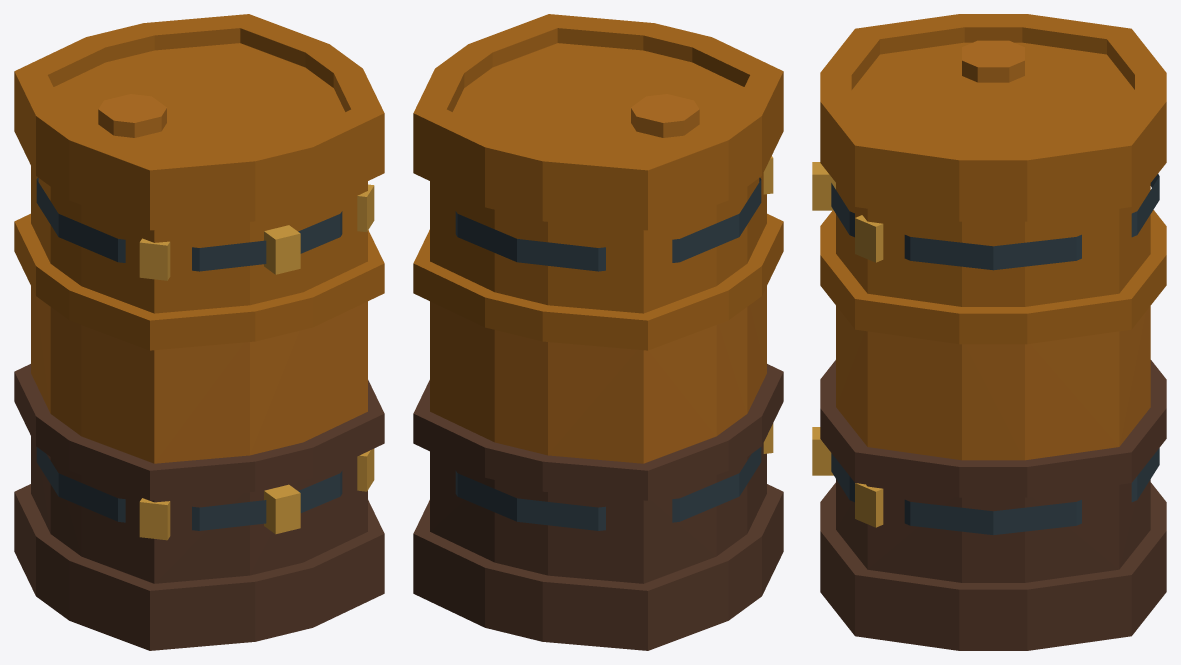
File: barrel-butter.glb
3 renders of one model, left to right at view 1: azimuth 30°, elevation 25°; view 2: azimuth 150°, elevation 25°; view 3: azimuth 270°, elevation 25°, orthographic. The views are drawn at different scales.
Parts seen in each view (by area): view 1: barrel-butter; view 2: barrel-butter; view 3: barrel-butter.
Part boxes in pixels (x1,y1,x2,y2): barrel-butter: (14,14,384,650); barrel-butter: (413,14,783,650); barrel-butter: (812,14,1166,650).
Bounding box in the file's own units: 0.55 × 0.86 × 0.5625.
